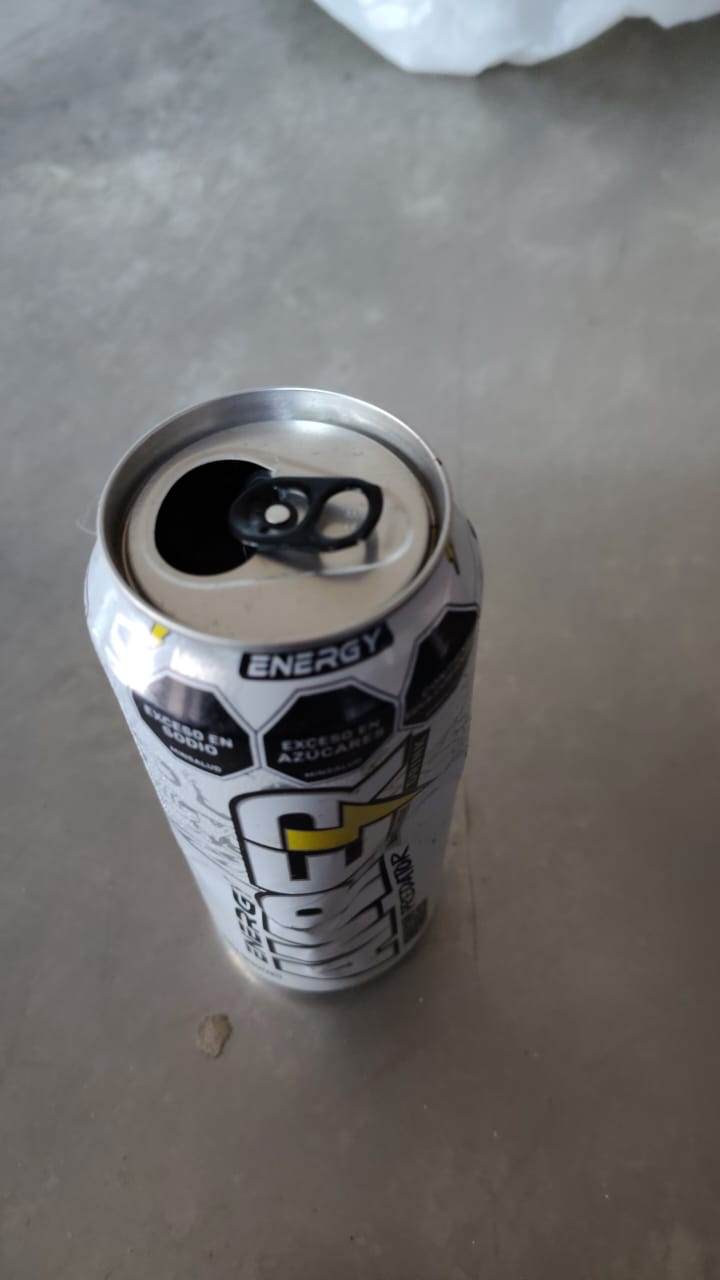Metal: (86, 384, 484, 998)
